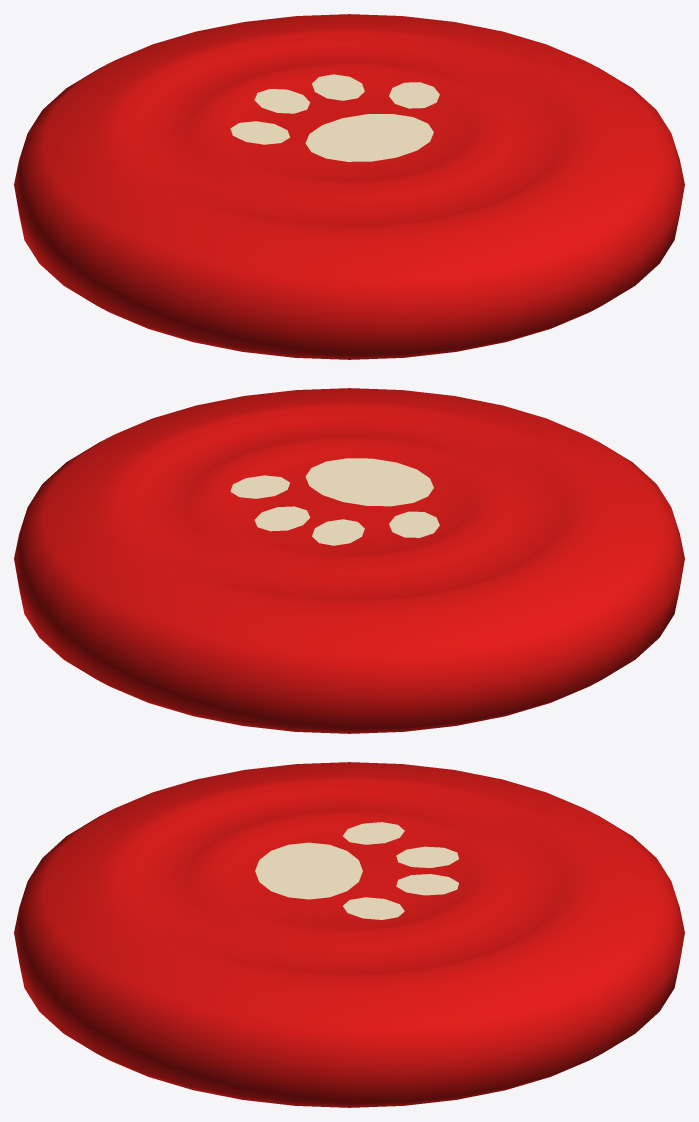
File: frisbee.glb
3 renders of one model, top to bottom at view 1: azimuth 30°, elevation 25°; view 2: azimuth 150°, elevation 25°; view 3: azimuth 270°, elevation 25°, orthographic.
Visible parts, largest first — view 1: Disc_Body, Paw_Emblem; view 2: Disc_Body, Paw_Emblem; view 3: Disc_Body, Paw_Emblem.
Boxes of the visible parts, box(x1,y1,x2,y2) form: Disc_Body: box(14, 14, 684, 359); Paw_Emblem: box(230, 74, 439, 161); Disc_Body: box(14, 388, 684, 733); Paw_Emblem: box(230, 458, 439, 545); Disc_Body: box(14, 762, 684, 1107); Paw_Emblem: box(255, 822, 458, 919).
Bounding box in the file's own units: 0.622 × 0.107 × 0.622.
